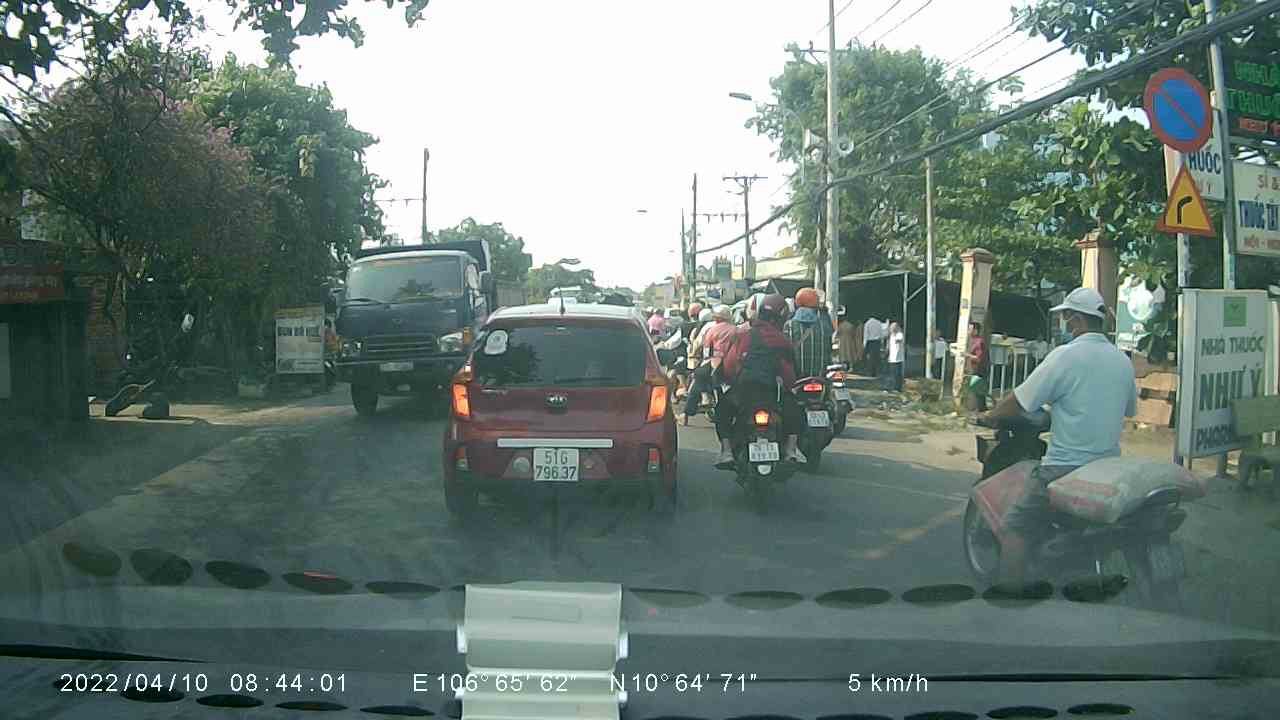Bien khac: (1148, 160, 1220, 239)
Cam do xe: (1137, 62, 1220, 155)
